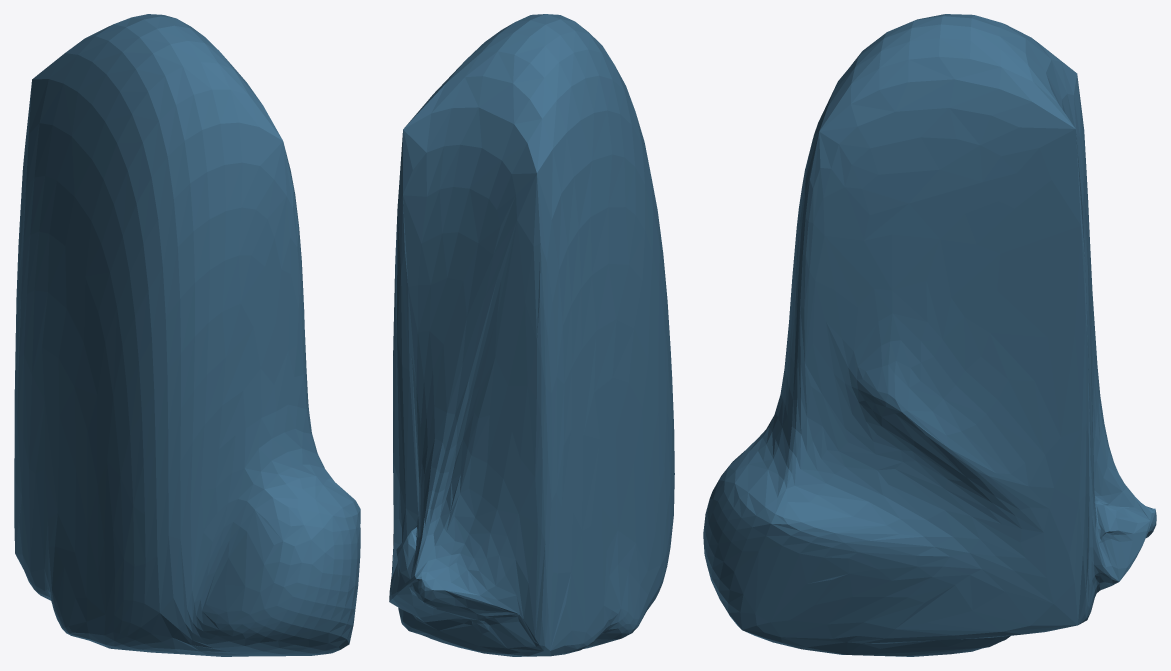
3 renders of one model, left to right at view 1: azimuth 30°, elevation 25°; view 2: azimuth 150°, elevation 25°; view 3: azimuth 270°, elevation 25°, orthographic.
Visible parts, largest first — view 1: 378_Cube.1539; view 2: 378_Cube.1539; view 3: 378_Cube.1539.
Boxes of the visible parts, x1=… form: 378_Cube.1539: x1=14, y1=14, x2=360, y2=656; 378_Cube.1539: x1=389, y1=14, x2=674, y2=656; 378_Cube.1539: x1=703, y1=14, x2=1156, y2=656.
Size of the model in its own units: 4.31 by 12.17 by 7.98.
